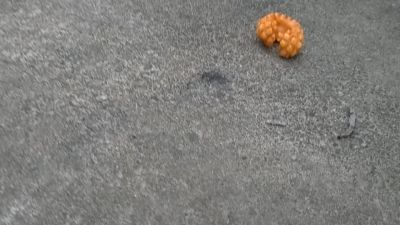eggs: (254, 11, 308, 61)
